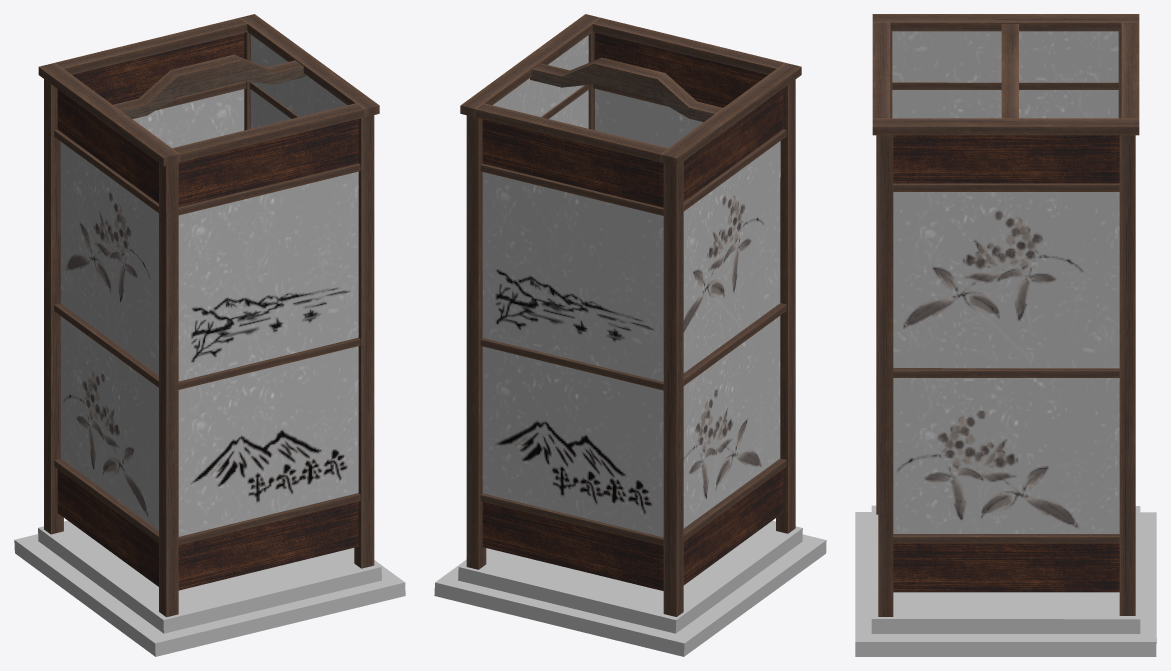
The model's file is jov_andon01a.fbx.
The picture shows the model from 3 angles, left to right: view 1: azimuth 30°, elevation 25°; view 2: azimuth 150°, elevation 25°; view 3: azimuth 270°, elevation 25°; orthographic projection. The views are drawn at different scales.
Visible parts, largest first — view 1: jov_andon01a; view 2: jov_andon01a; view 3: jov_andon01a.
Boxes of the visible parts, <box> form: jov_andon01a: <box>14,14,405,656</box>; jov_andon01a: <box>434,14,826,656</box>; jov_andon01a: <box>855,14,1156,656</box>.
Size of the model in its own units: 36.28 by 70.29 by 35.45.
